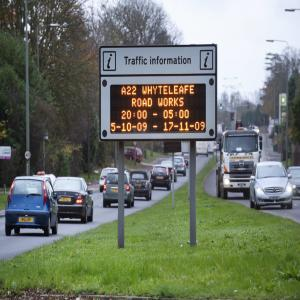Vehicle-registration-plate: (17, 217, 35, 225), (270, 196, 281, 202), (60, 197, 72, 201), (113, 189, 119, 192)
